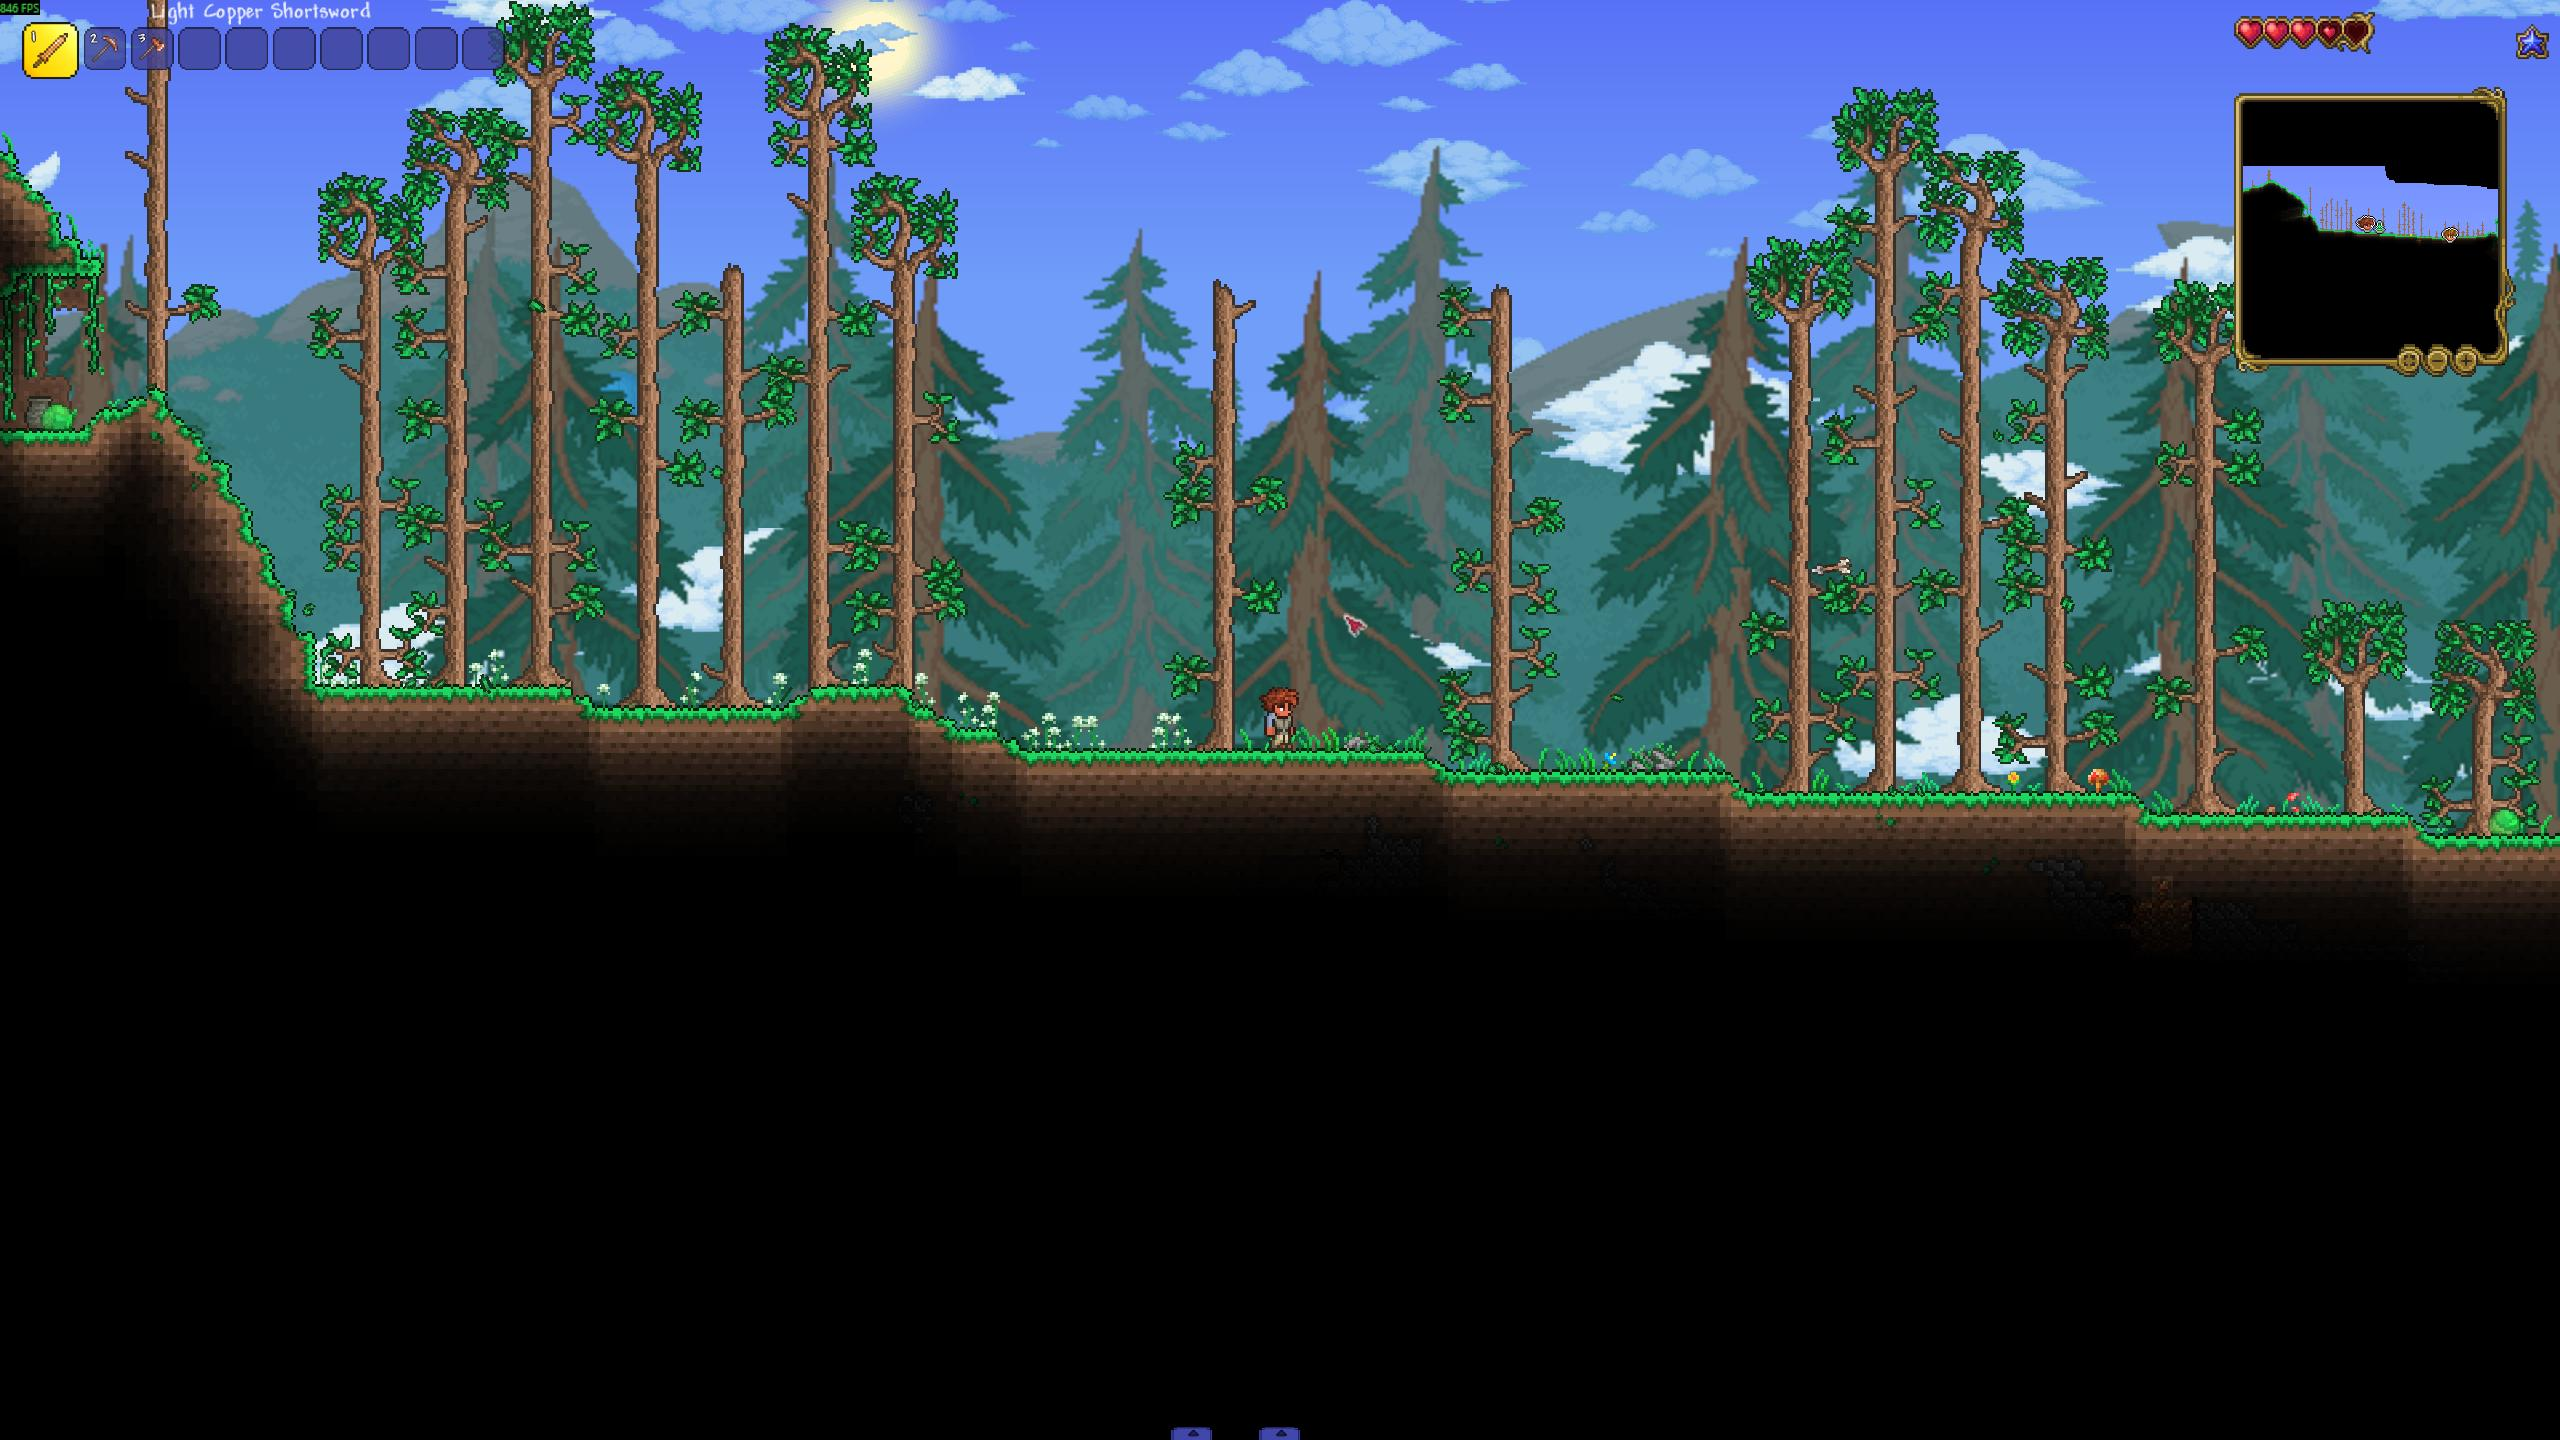Green Slime: (2484, 802, 2525, 840), (40, 401, 74, 434)
